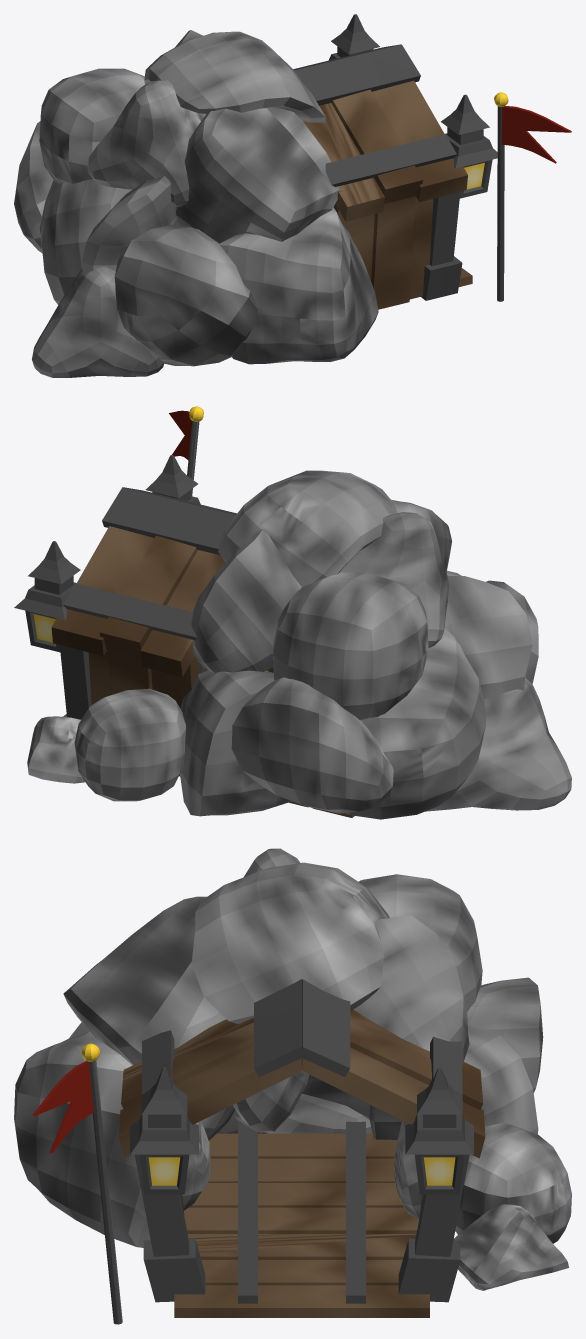
The model's file is mine_v3.fbx.
3 renders of one model, top to bottom at view 1: azimuth 30°, elevation 25°; view 2: azimuth 150°, elevation 25°; view 3: azimuth 270°, elevation 25°, orthographic. The views are drawn at different scales.
Parts seen in each view (by area): view 1: mine; view 2: mine; view 3: mine.
Boxes of the visible parts, x1,y1,x2,y2 form: mine: [14, 14, 571, 377]; mine: [14, 406, 571, 819]; mine: [14, 848, 571, 1324].
Bounding box in the file's own units: 641 × 368 × 544.
1 material, 1 textured.
